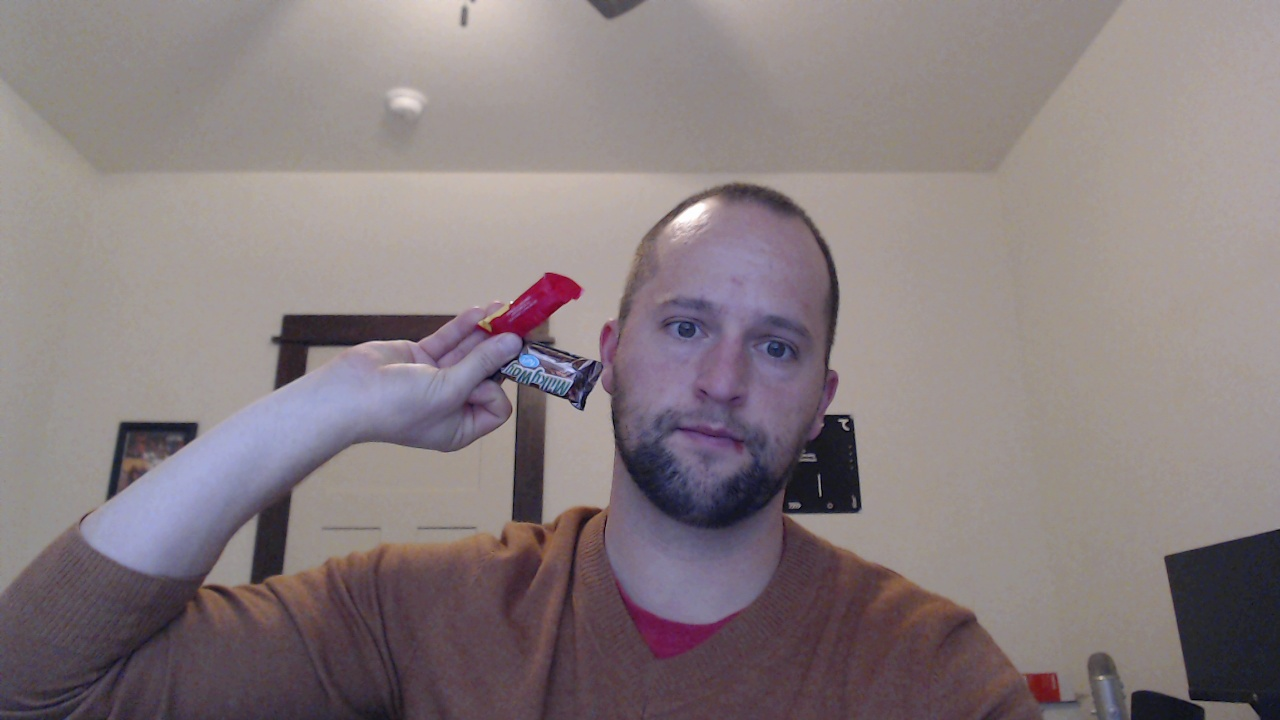milky_way: (487, 331, 592, 411)
starbust: (454, 247, 601, 338)
